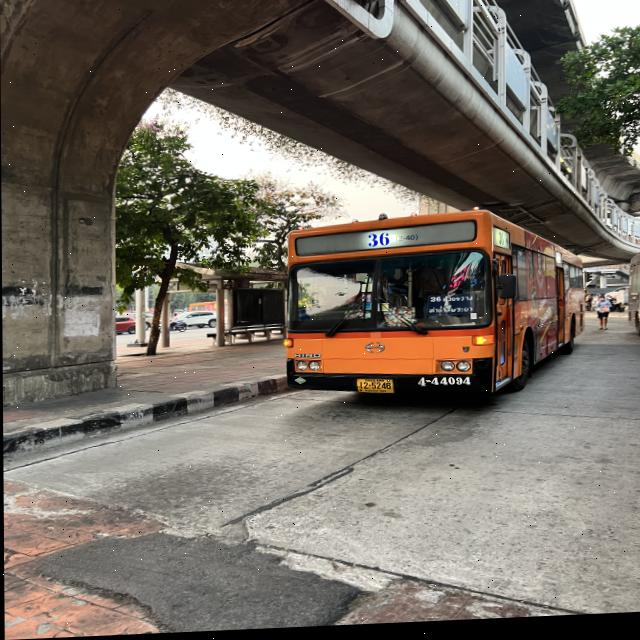BMTA-bus: (281, 215, 584, 403)
Bus Line Number: (358, 232, 422, 253)
Bus Side Number: (413, 378, 473, 394)
Destination Sign: (425, 298, 474, 319)
